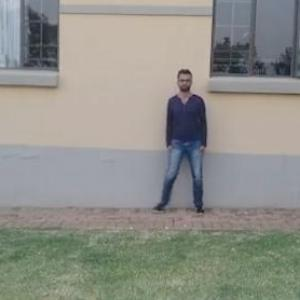follow: (165, 67, 209, 216)
